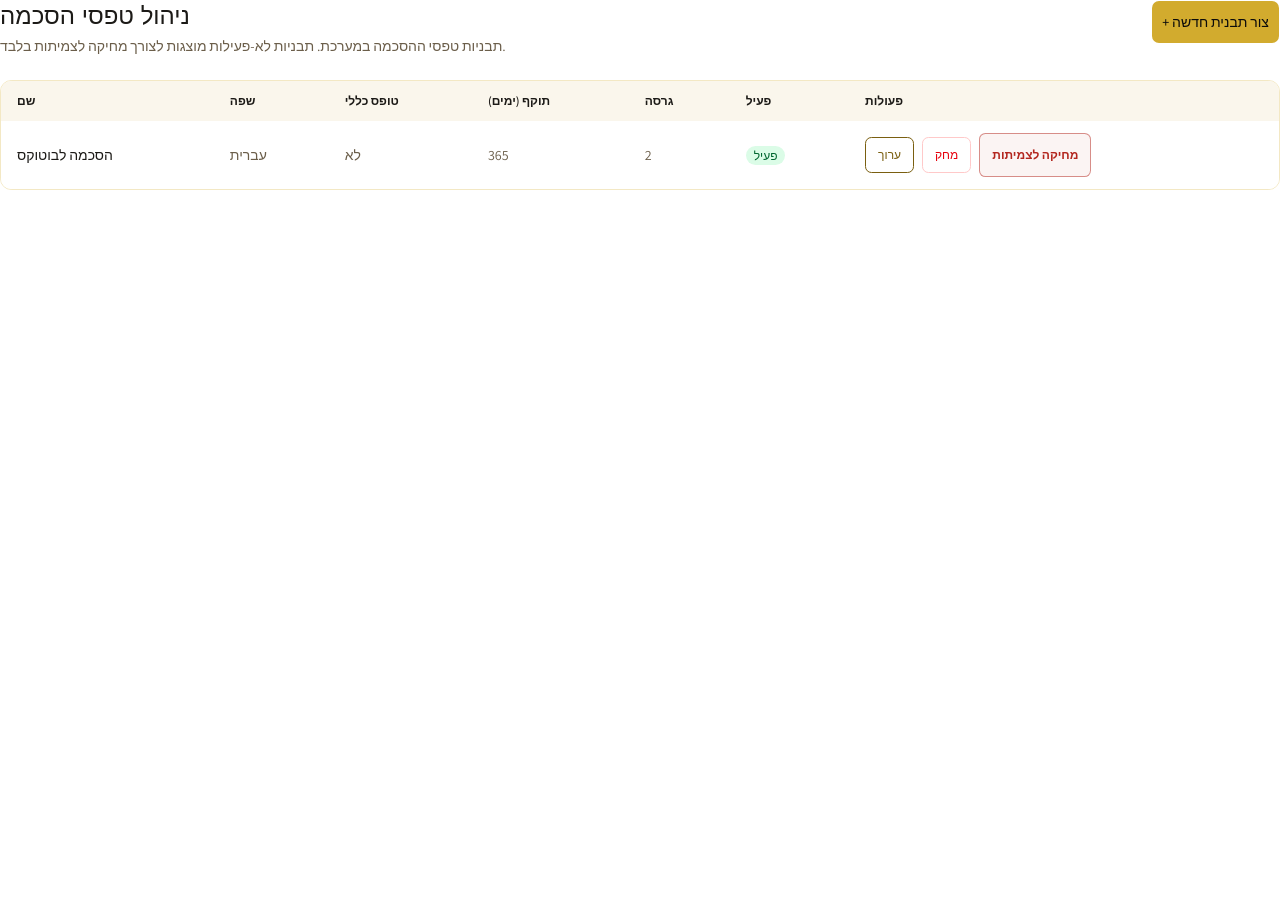
Test: ConsentTemplatesList — כפתור מחיקה לצמיתות ופתיחה › לחיצה פותחת דיאלוג אזהרה עם שם התבנית ואזהרת המחיקה המודגשת
The width and height of the screenshot is (1280, 900).
What coordinates should you click on to do the following:
click the button "מחיקה לצמיתות"
I would click on:
 (1035, 155)
Its box is [979, 133, 1092, 177].
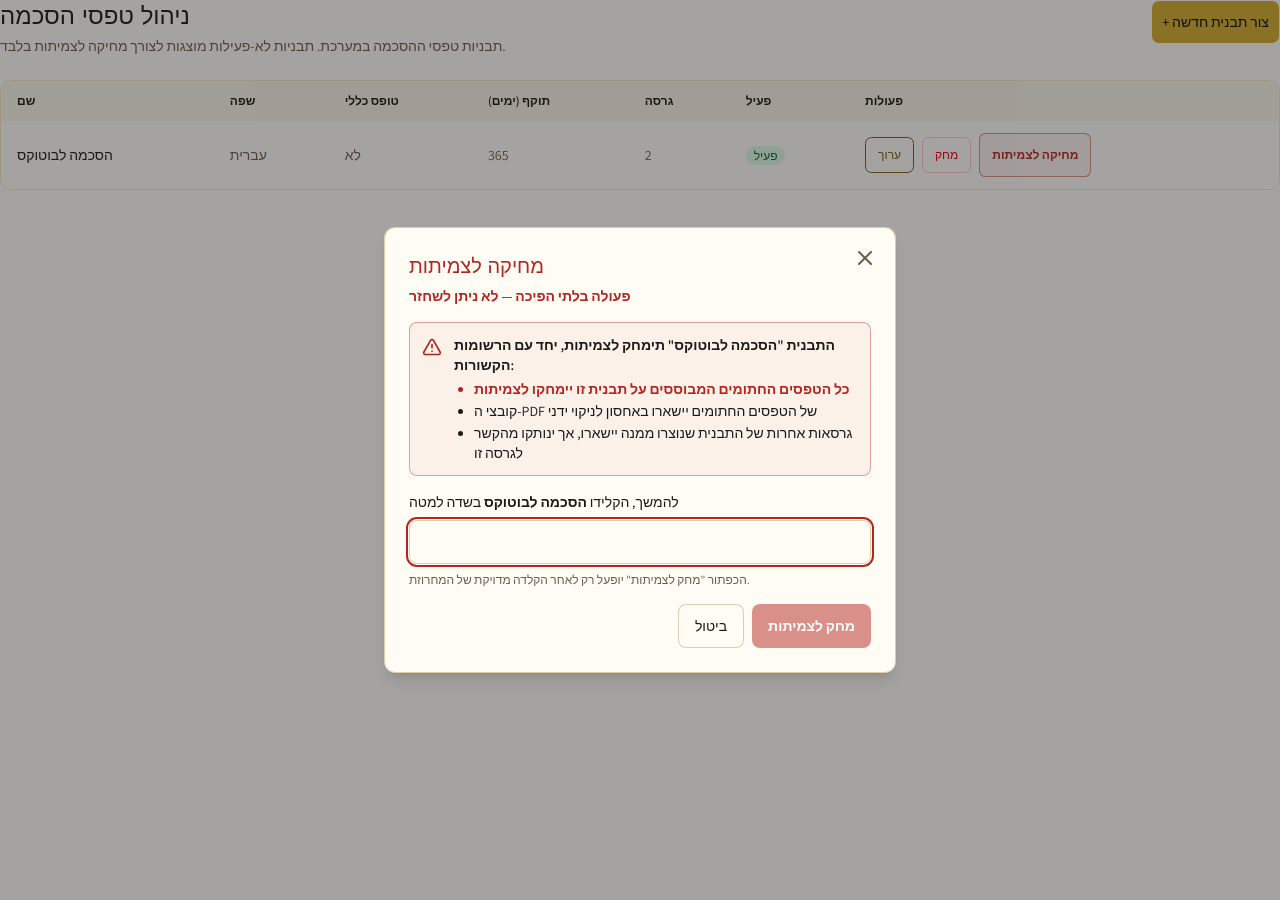
Expected: the dialog is shown, [384, 227, 896, 673]
Expected: the text "פעולה בלתי הפיכה — לא ניתן לשחזר" is shown, [409, 287, 630, 305]
Expected: the list item "כל הטפסים החתומים המבוססים על תבנית זו יימחקו לצמיתות" is shown, [474, 379, 858, 399]
